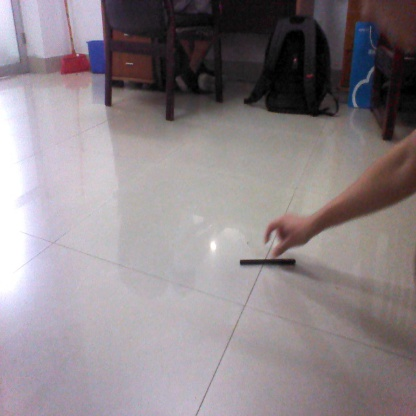pen: (237, 258, 298, 267)
